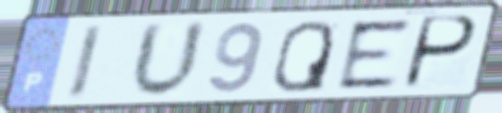9: (205, 19, 267, 97)
E: (335, 16, 414, 92)
I: (64, 22, 107, 103)
P: (398, 13, 481, 92)
Q: (270, 18, 337, 94)
U: (127, 18, 211, 102)
